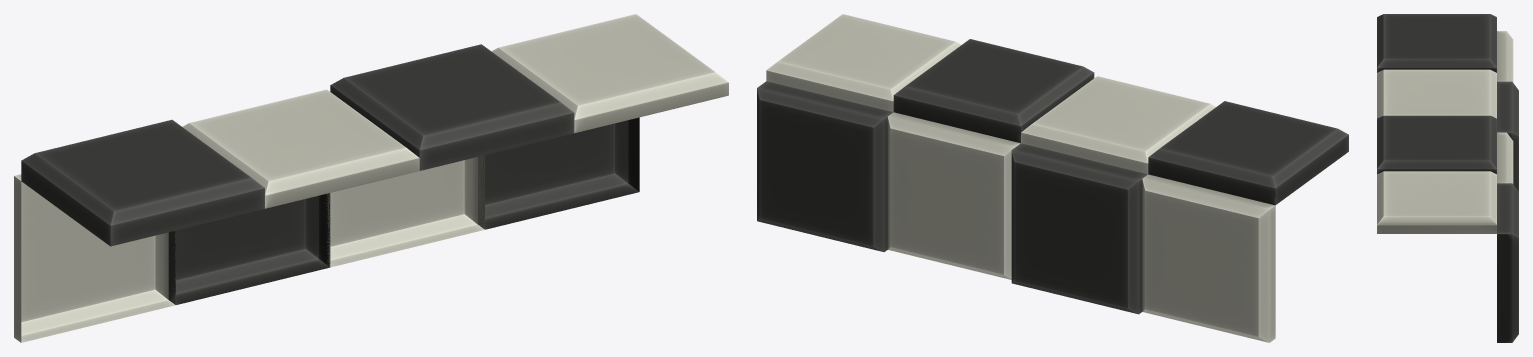
Rendered from Tile_Mosaic_Terr_Middle_Final_001.fbx.
The picture shows the model from 3 angles, left to right: view 1: azimuth 30°, elevation 25°; view 2: azimuth 150°, elevation 25°; view 3: azimuth 270°, elevation 25°; orthographic projection. The views are drawn at different scales.
Parts seen in each view (by area): view 1: Tile_Mosaic_Terr_Center_004; view 2: Tile_Mosaic_Terr_Center_004; view 3: Tile_Mosaic_Terr_Center_004.
Boxes of the visible parts, x1,y1,x2,y2 form: Tile_Mosaic_Terr_Center_004: (14,14,728,342); Tile_Mosaic_Terr_Center_004: (757,14,1348,342); Tile_Mosaic_Terr_Center_004: (1377,14,1518,342).
Size of the model in its own units: 100 by 29.55 by 29.55.
